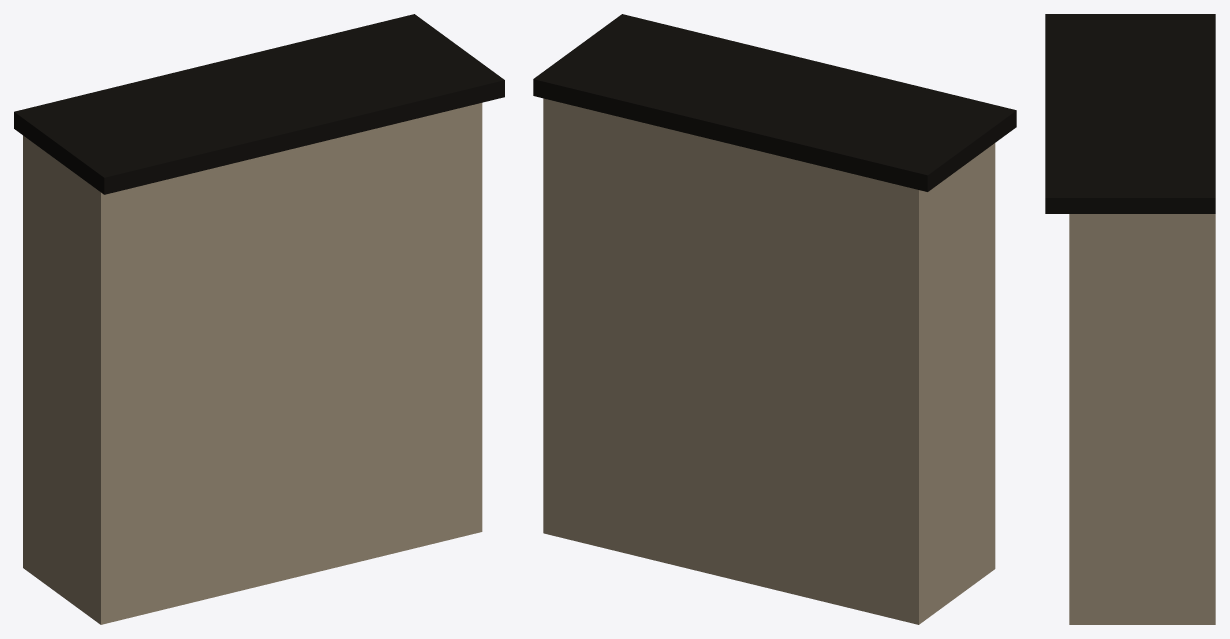
The model's file is za_kibel.fbx.
3 views of the same model, side by side, from view 1: azimuth 30°, elevation 25°; view 2: azimuth 150°, elevation 25°; view 3: azimuth 270°, elevation 25° (orthographic). The views are drawn at different scales.
Visible parts, largest first — view 1: Box015; view 2: Box015; view 3: Box015.
Boxes of the visible parts, x1,y1,x2,y2 form: Box015: (14, 14, 504, 624); Box015: (533, 14, 1016, 624); Box015: (1045, 14, 1215, 624).
Size of the model in its own units: 138 by 151 by 53.8.
